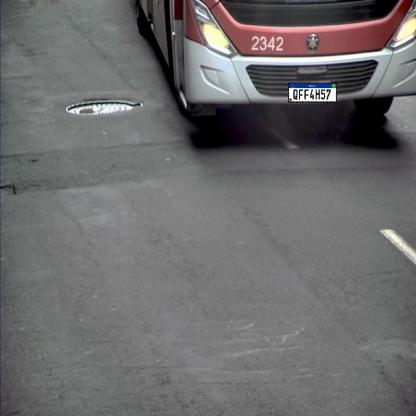PlacaM: (288, 82, 337, 102)
